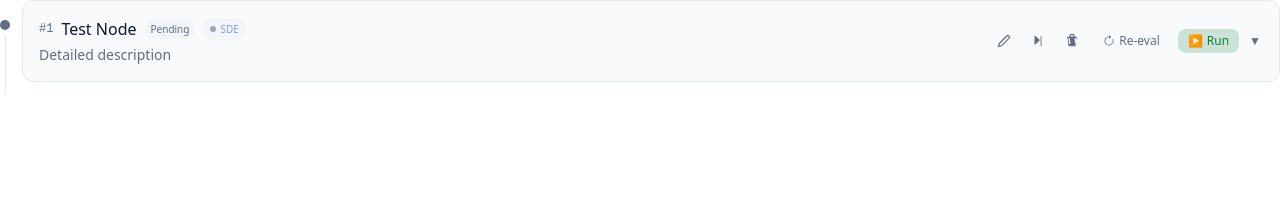
Test: MacroNodeCard › toggles expansion on click
This screenshot has width=1280, height=198.
Expected: the text "Detailed description" is shown, [39,45,171,64]
# Click to expand
Click the text "Test Node" at coordinates (651, 41), box [22,0,1279,82]
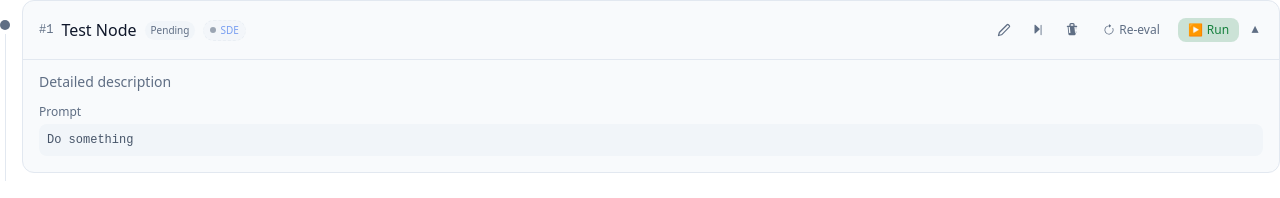
Result: the heading "Prompt" is shown at [39,103,81,120]
Result: the text "Do something" is shown at [39,124,1263,156]
